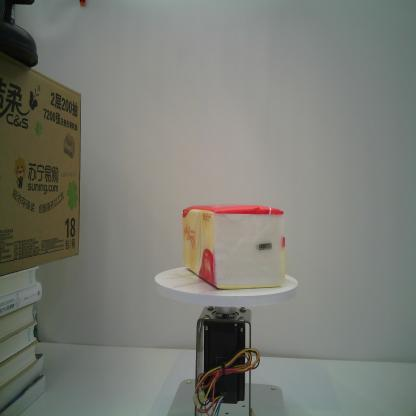Tissue: (182, 204, 286, 290)
